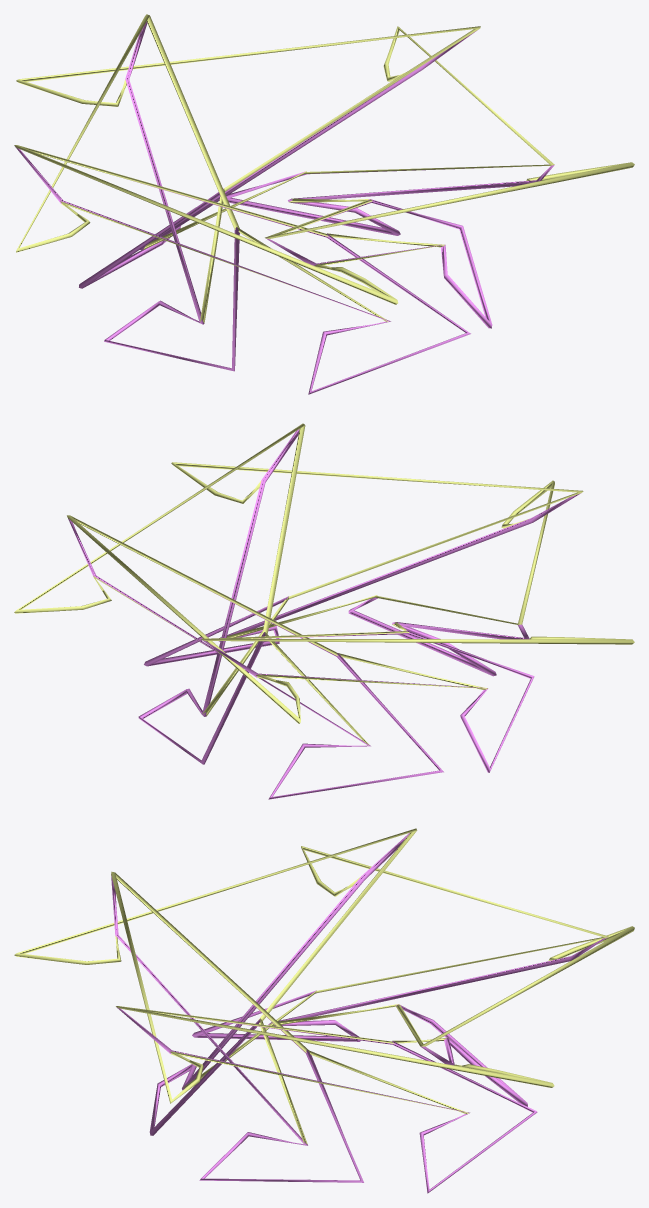
File: MapG1.glb
3 renders of one model, top to bottom at view 1: azimuth 30°, elevation 25°; view 2: azimuth 150°, elevation 25°; view 3: azimuth 270°, elevation 25°, orthographic. The views are drawn at different scales.
Parts seen in each view (by area): view 1: RegularMap_G; view 2: RegularMap_G; view 3: RegularMap_G.
Part boxes in pixels (bbox=[...]): RegularMap_G: bbox=[14, 14, 634, 394]; RegularMap_G: bbox=[14, 423, 634, 799]; RegularMap_G: bbox=[14, 828, 634, 1193].
Size of the model in its own units: 6.96 by 2.33 by 7.08.
